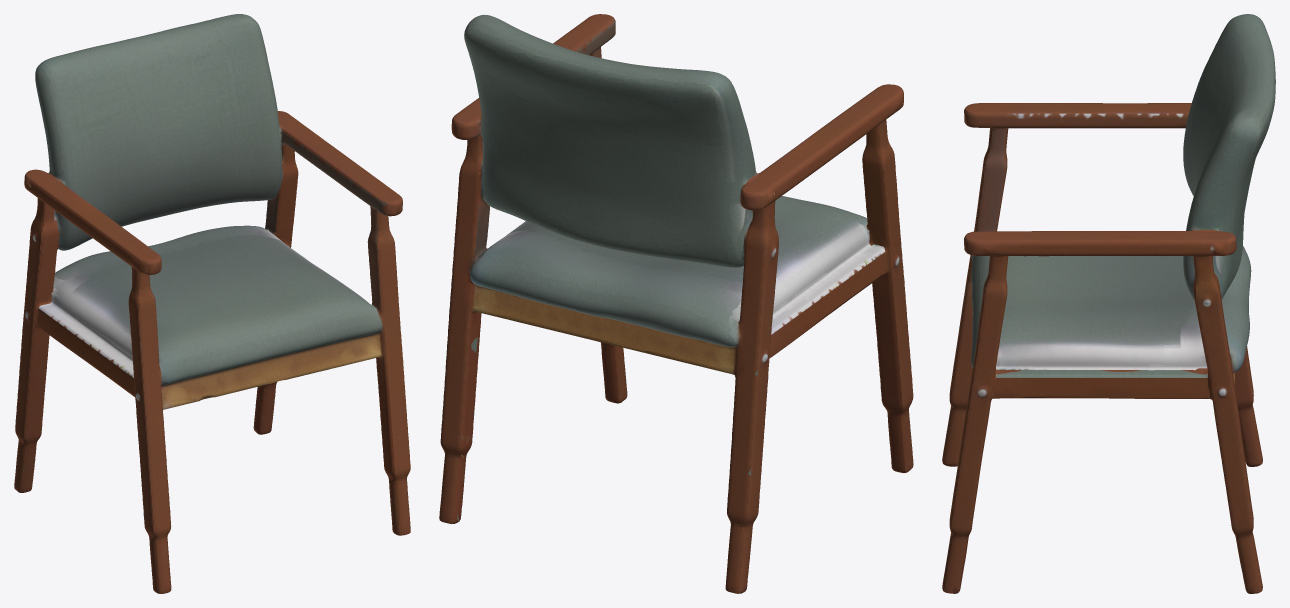
The model's file is chair__chair#2.glb.
3 renders of one model, left to right at view 1: azimuth 30°, elevation 25°; view 2: azimuth 150°, elevation 25°; view 3: azimuth 270°, elevation 25°, orthographic. The views are drawn at different scales.
Parts seen in each view (by area): view 1: tmpy8de7r4k.ply; view 2: tmpy8de7r4k.ply; view 3: tmpy8de7r4k.ply.
Part boxes in pixels (bbox=[...]): tmpy8de7r4k.ply: bbox=[14, 14, 410, 593]; tmpy8de7r4k.ply: bbox=[439, 14, 913, 593]; tmpy8de7r4k.ply: bbox=[942, 14, 1275, 593].
Size of the model in its own units: 1.3 by 1.99 by 1.3.
1 material, 1 textured.
